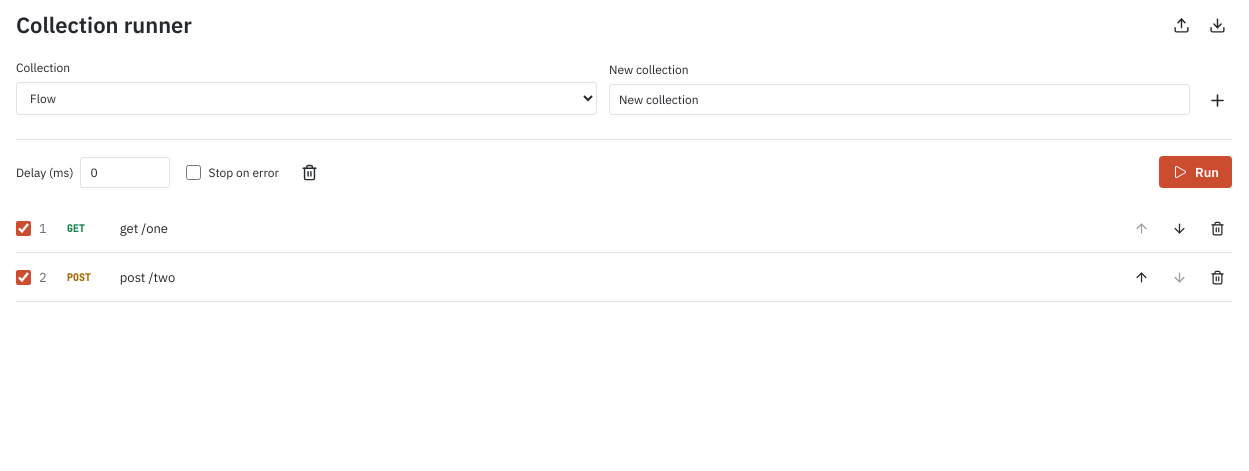
Test case: collection runner › runs in sequence and passes extracted variables to the next request
Click the button "Run": (1196, 172) [1159, 156, 1232, 188]
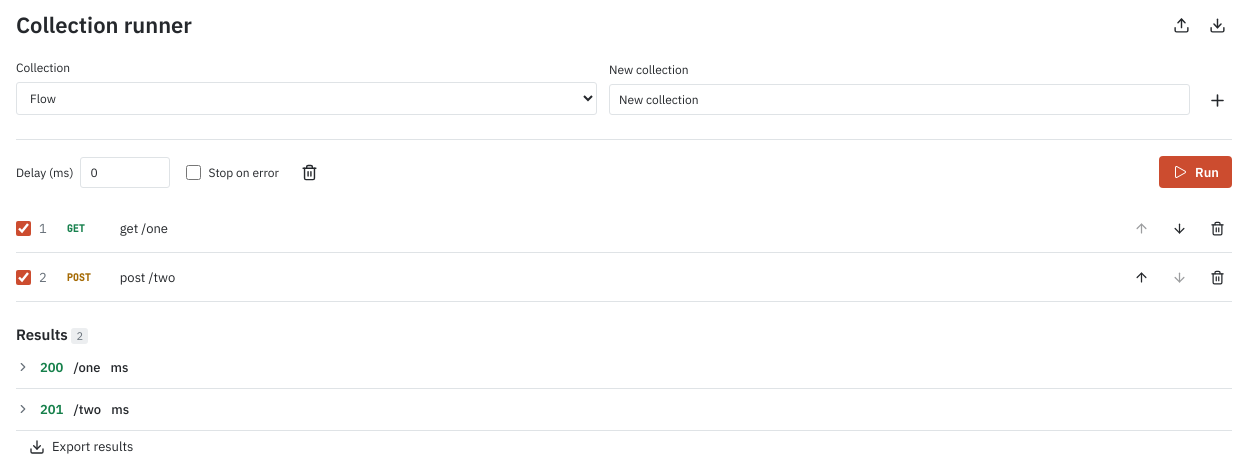
Check: the text "201" is shown, box [40, 400, 63, 418]
